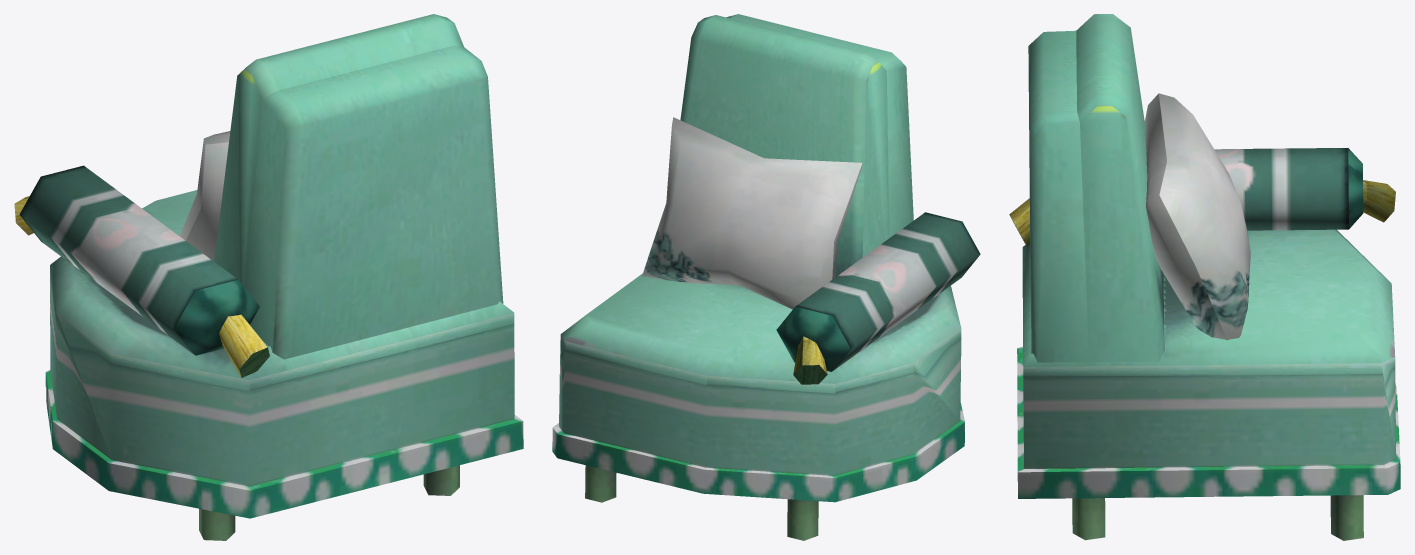
Rendered from furni_0200511_02.FBX.
3 renders of one model, left to right at view 1: azimuth 30°, elevation 25°; view 2: azimuth 150°, elevation 25°; view 3: azimuth 270°, elevation 25°, orthographic. The views are drawn at different scales.
Parts seen in each view (by area): view 1: furni_0200511_02; view 2: furni_0200511_02; view 3: furni_0200511_02.
Boxes of the visible parts, x1,y1,x2,y2 form: furni_0200511_02: (14, 14, 523, 540); furni_0200511_02: (552, 14, 980, 540); furni_0200511_02: (1009, 14, 1400, 540).
Size of the model in its own units: 78.04 by 98.97 by 79.36.
Materials: 1 (1 with a texture image).
